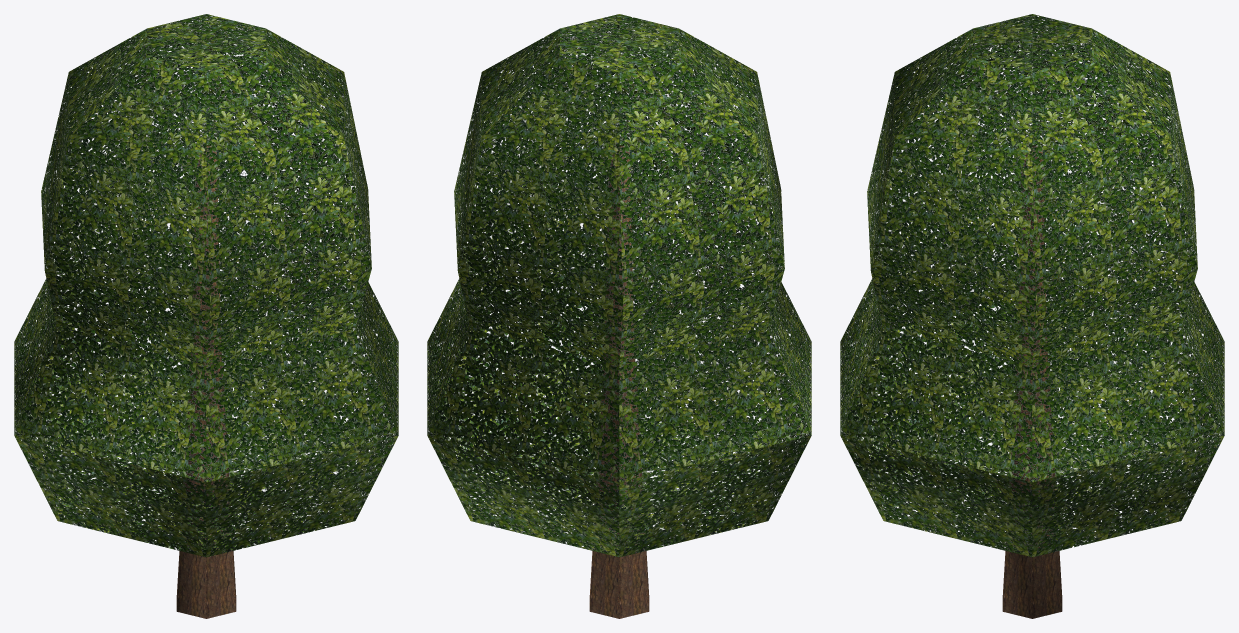
Rendered from Jak.fbx.
The picture shows the model from 3 angles, left to right: view 1: azimuth 30°, elevation 25°; view 2: azimuth 150°, elevation 25°; view 3: azimuth 270°, elevation 25°; orthographic projection.
Visible parts, largest first — view 1: Model; view 2: Model; view 3: Model.
Part boxes in pixels (x1=…): Model: x1=14, y1=14, x2=398, y2=618; Model: x1=427, y1=14, x2=811, y2=618; Model: x1=840, y1=14, x2=1224, y2=618.
Bounding box in the file's own units: 645 × 900 × 559.
Materials: 2 (2 with a texture image).
